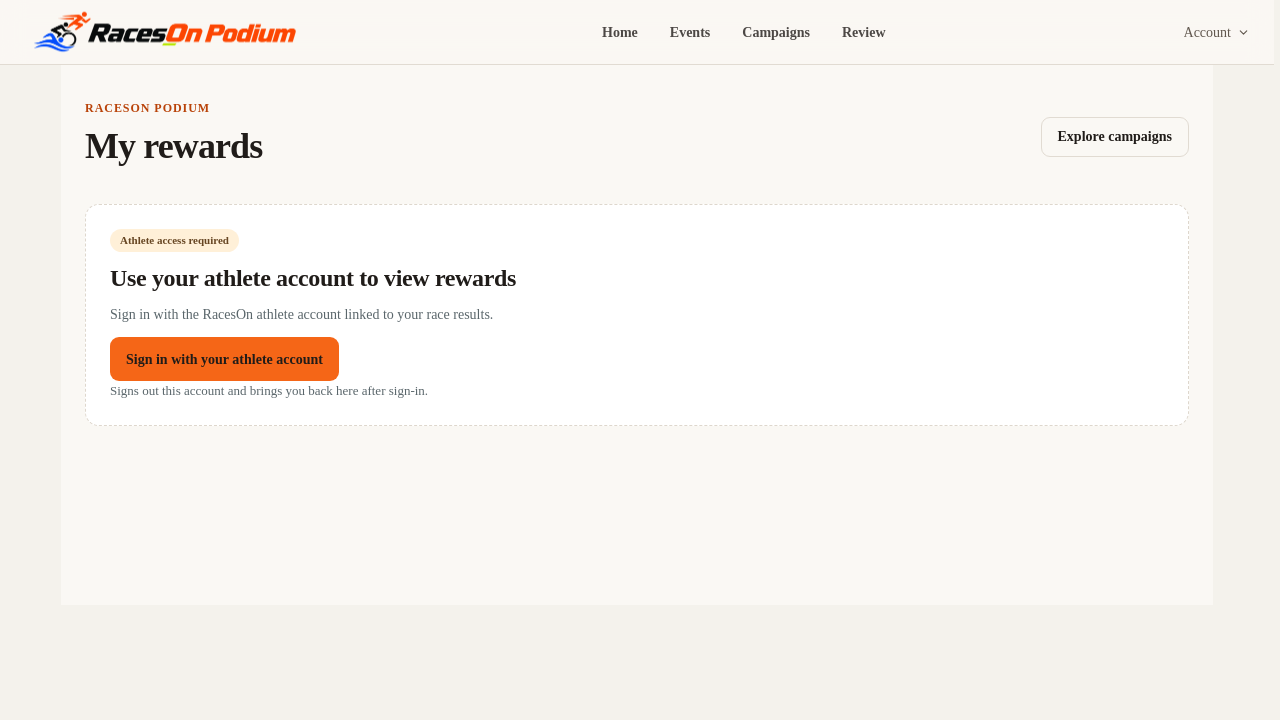
Test case: keeps denied athlete access within Podium without mounting private rewards
The width and height of the screenshot is (1280, 720).
Check: the heading "Use your athlete account to view rewards" is shown, box [110,264,516,292]
Click the link "Explore campaigns" at {"x": 1115, "y": 137}, box [1040,117,1189,157]
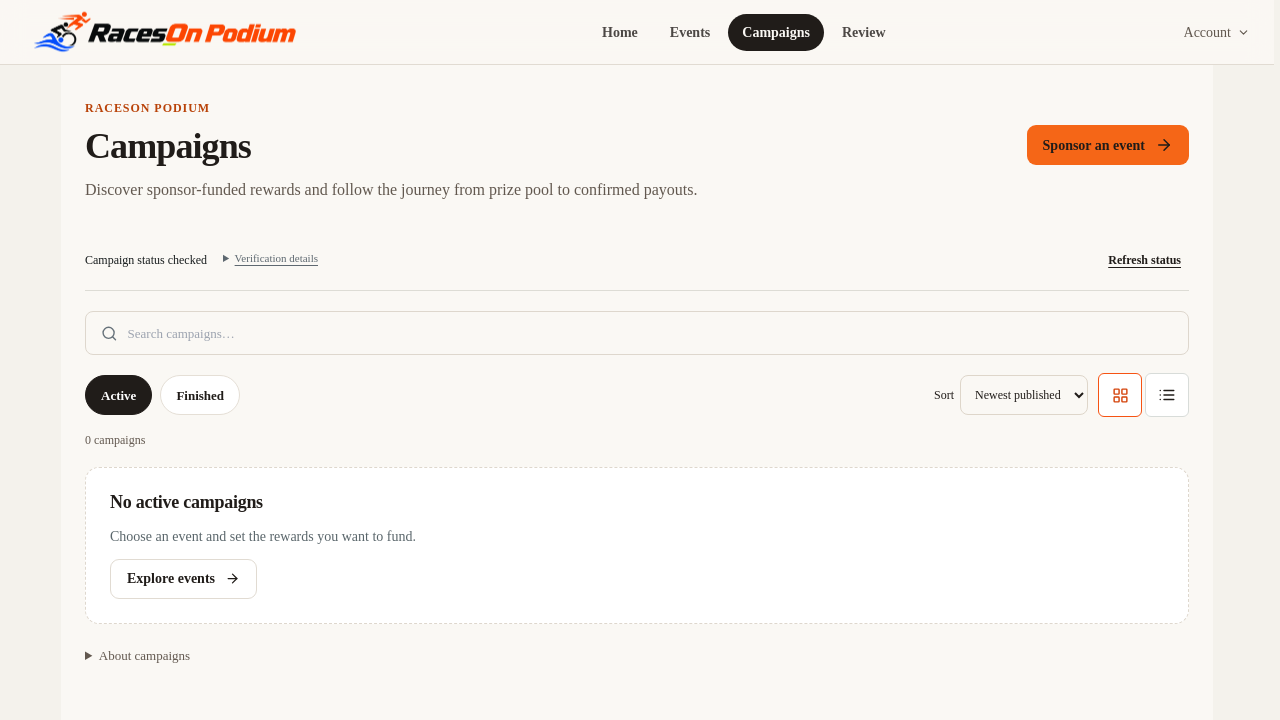
Check: the heading "Campaigns" is shown, box [85,126,251,166]
